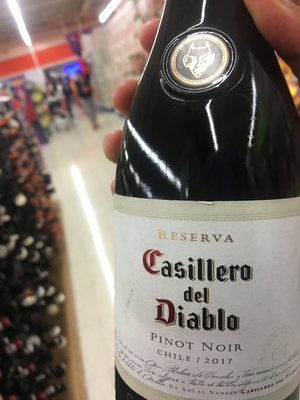casillero del diablo pinot noir: (82, 33, 299, 400)
